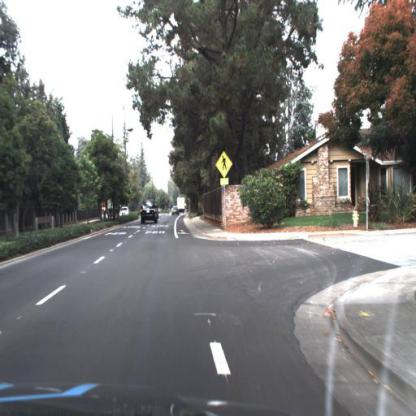car: (139, 197, 160, 227), (119, 203, 131, 219), (177, 197, 188, 213), (170, 206, 180, 218), (121, 205, 130, 215)
truck: (174, 193, 187, 219)
